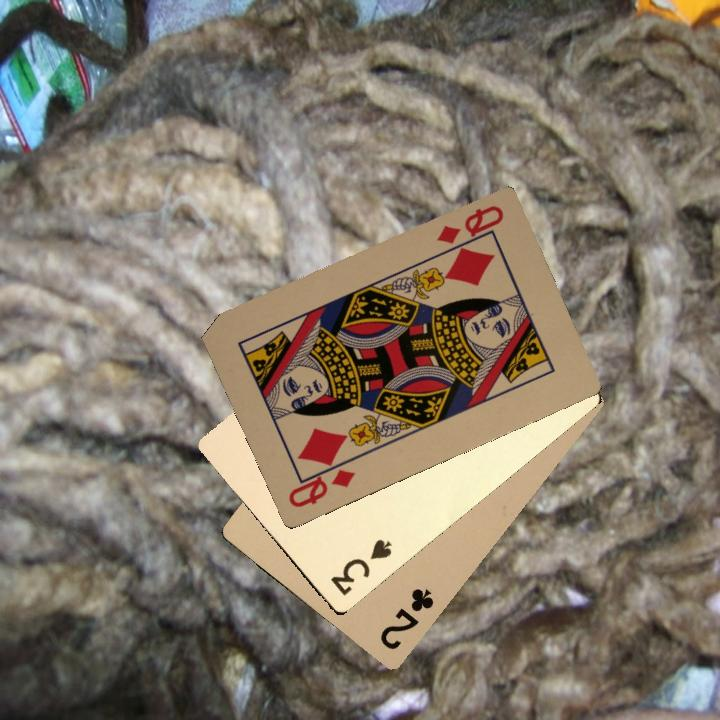2c: (376, 584, 437, 653)
3s: (326, 534, 395, 598)
Qd: (284, 454, 358, 510), (433, 201, 507, 257)
